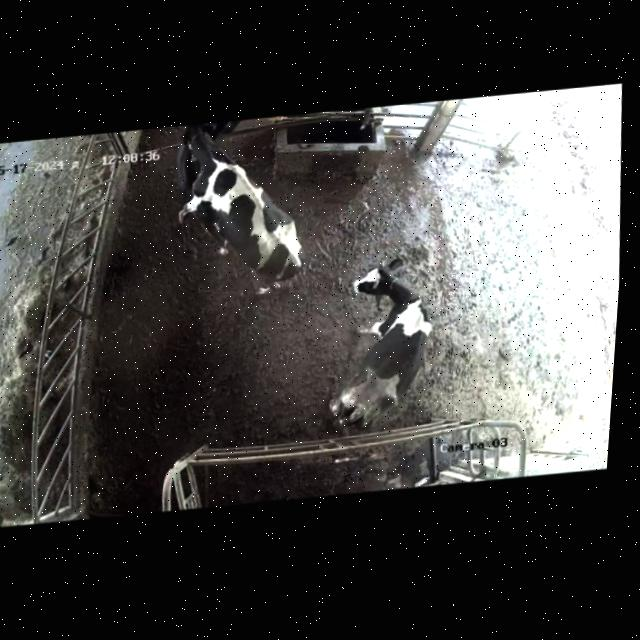ride: (165, 118, 321, 313)
stand: (313, 237, 463, 443)
